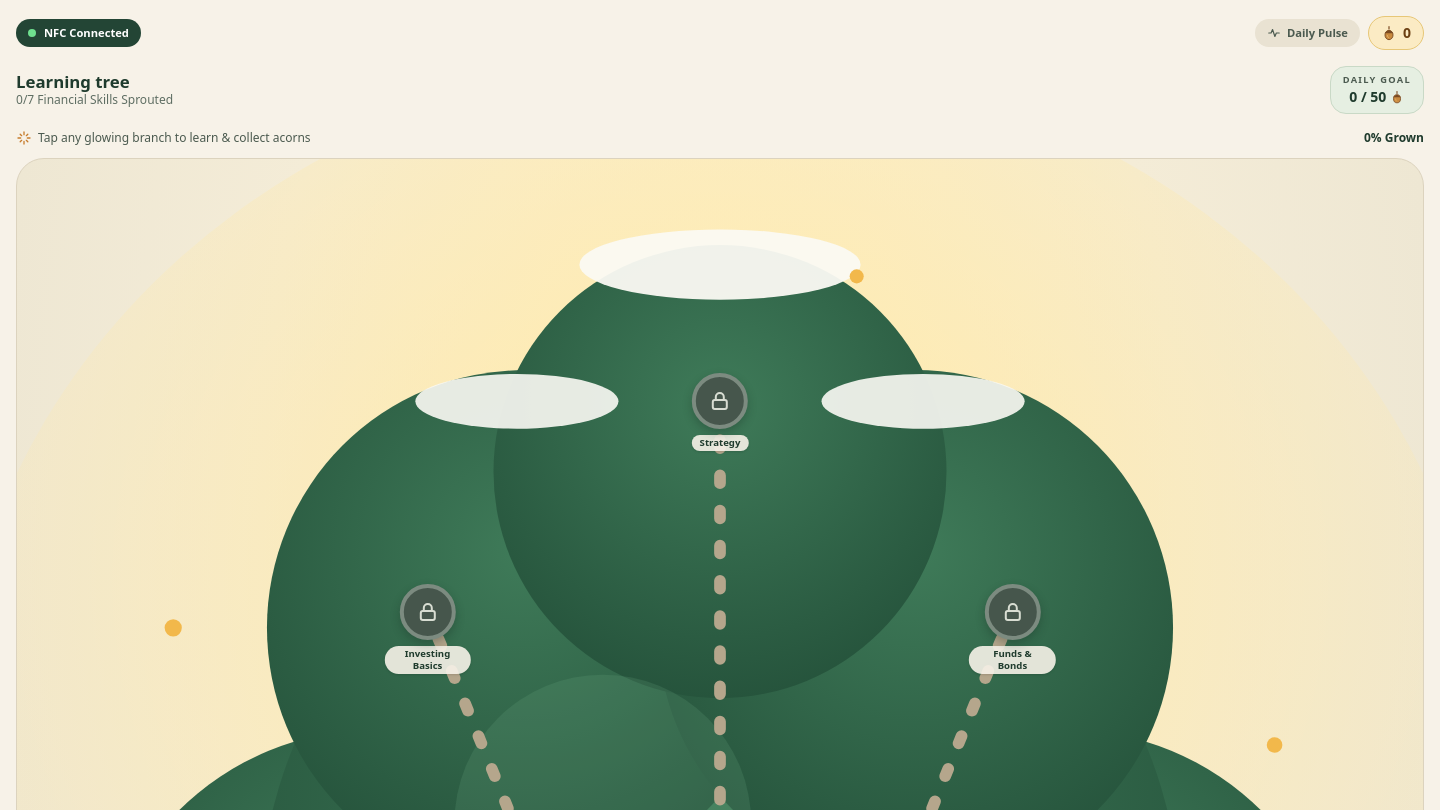
Test case: LearningHub tree › shows the unlock cost when a locked branch is tapped, without opening a lesson
This screenshot has width=1440, height=810.
Click the button with test id "node-investing-basics".
click(428, 612)  # box [400,584,456,640]
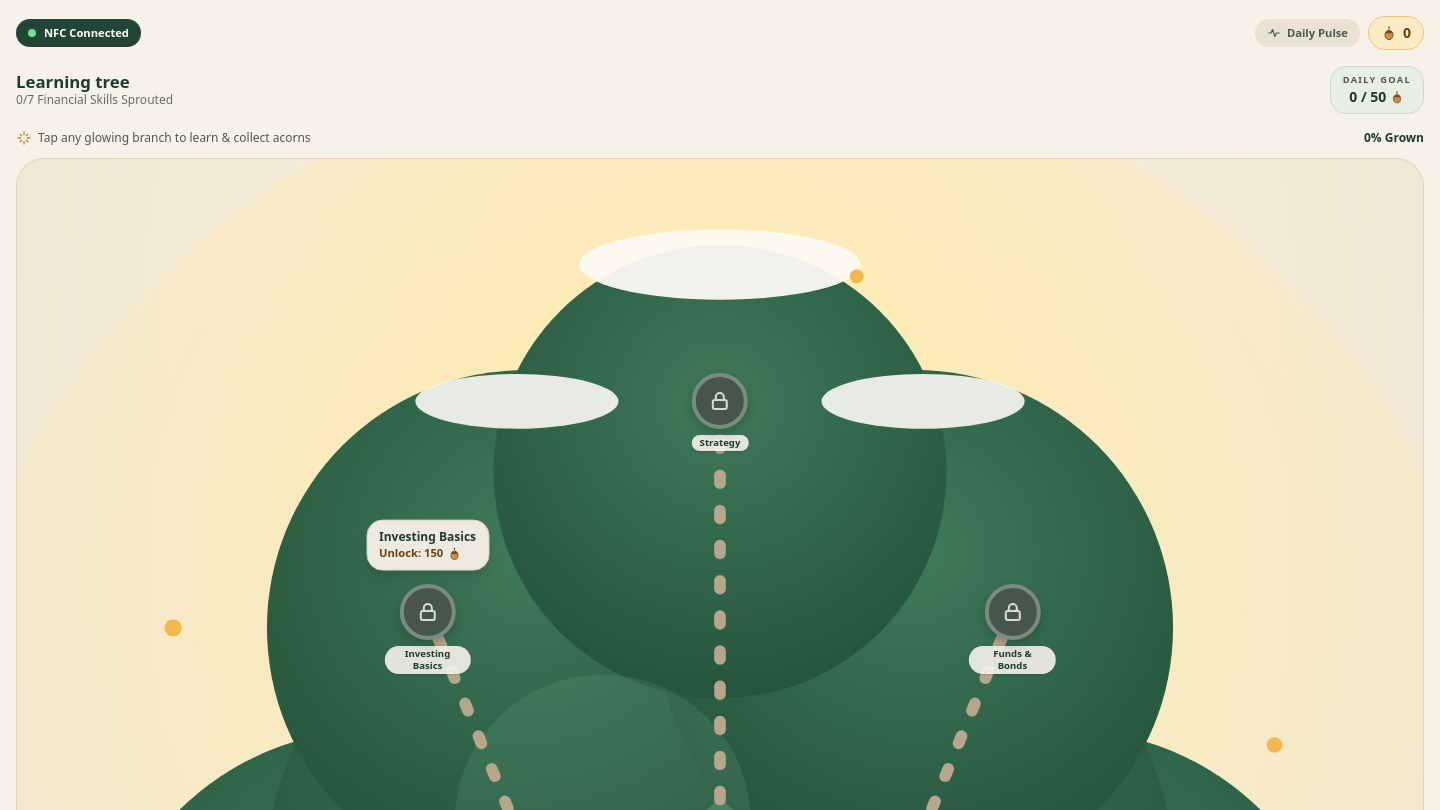
Check: the message shows "Unlock: 150", box [366,520,489,571]
